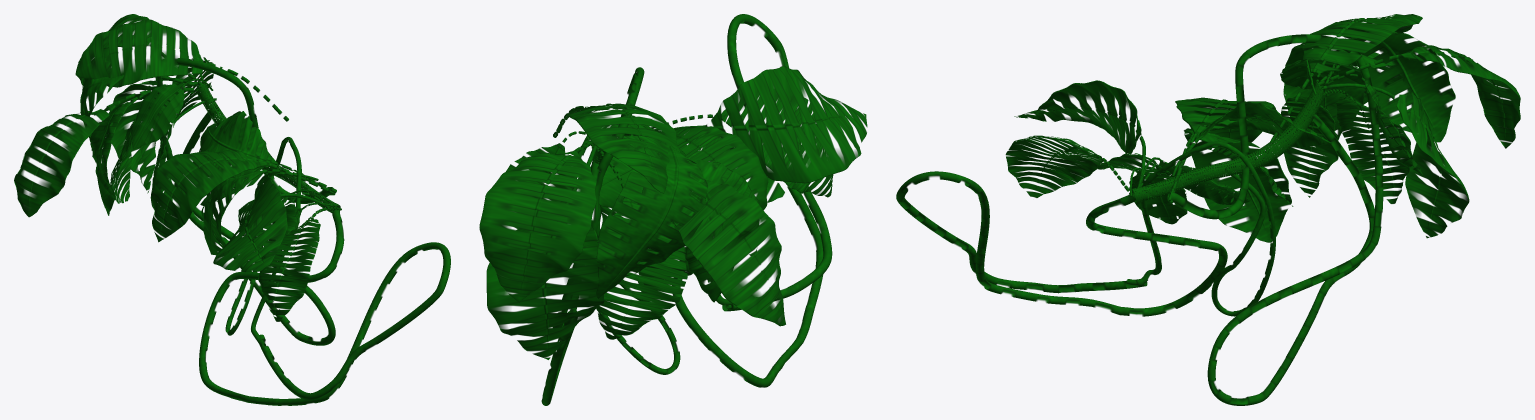
Rendered from dmtreeleaves3.glb.
3 views of the same model, side by side, from view 1: azimuth 30°, elevation 25°; view 2: azimuth 150°, elevation 25°; view 3: azimuth 270°, elevation 25° (orthographic). The views are drawn at different scales.
Visible parts, largest first — view 1: jump_rope_246.040, leaf_005_mesh.005, leaf_004_mesh.005, leaf_005_mesh.006, leaf_003_mesh.006, leaf_001_mesh.005, jump_rope_246.042, leaf_009_mesh.005, leaf_006_mesh.006, leaf_003_mesh.007, leaf_010_mesh.005, leaf_009_mesh.006 (+10 smaller); view 2: leaf_004_mesh.006, leaf_003_mesh.006, leaf_005_mesh.006, leaf_010_mesh.006, leaf_003_mesh.007, jump_rope_246.040, leaf_005_mesh.005, leaf_001_mesh.006, leaf_004_mesh.005, leaf_009_mesh.006, jump_rope_246.042, leaf_001_mesh.005 (+5 smaller); view 3: jump_rope_246.042, jump_rope_246.040, leaf_010_mesh.006, leaf_003_mesh.007, leaf_003_mesh.006, leaf_001_mesh.005, leaf_010_mesh.005, leaf_005_mesh.005, leaf_004_mesh.006, leaf_001_mesh.006, human_liver_1128_aorta.007, jump_rope_246.041 (+10 smaller).
Part boxes in pixels (x1,y1,x2,y2): jump_rope_246.040: [199, 209, 450, 405]; leaf_005_mesh.005: [75, 19, 288, 121]; leaf_004_mesh.005: [151, 150, 336, 242]; leaf_005_mesh.006: [14, 88, 202, 217]; leaf_003_mesh.006: [213, 173, 332, 272]; leaf_001_mesh.005: [258, 207, 340, 321]; jump_rope_246.042: [155, 58, 335, 345]; leaf_009_mesh.005: [193, 111, 335, 195]; leaf_006_mesh.006: [132, 78, 213, 148]; leaf_003_mesh.007: [108, 77, 204, 193]; leaf_010_mesh.005: [201, 163, 334, 255]; leaf_009_mesh.006: [89, 82, 198, 215]; leaf_004_mesh.006: [479, 140, 596, 302]; leaf_003_mesh.006: [673, 66, 867, 183]; leaf_005_mesh.006: [673, 180, 785, 326]; leaf_010_mesh.006: [596, 133, 707, 298]; leaf_003_mesh.007: [486, 145, 604, 359]; jump_rope_246.040: [672, 14, 832, 387]; leaf_005_mesh.005: [553, 103, 679, 193]; leaf_001_mesh.006: [585, 138, 687, 339]; leaf_004_mesh.005: [656, 126, 768, 255]; leaf_009_mesh.006: [625, 146, 760, 302]; jump_rope_246.042: [541, 67, 644, 405]; leaf_001_mesh.005: [653, 91, 833, 197]; jump_rope_246.042: [1167, 34, 1383, 405]; jump_rope_246.040: [896, 171, 1227, 316]; leaf_010_mesh.006: [1315, 28, 1455, 142]; leaf_003_mesh.007: [1320, 83, 1469, 238]; leaf_003_mesh.006: [1014, 80, 1145, 197]; leaf_001_mesh.005: [1005, 135, 1131, 197]; leaf_010_mesh.005: [1169, 128, 1291, 242]; leaf_005_mesh.005: [1265, 14, 1422, 153]; leaf_004_mesh.006: [1318, 45, 1520, 148]; leaf_001_mesh.006: [1322, 89, 1412, 203]; human_liver_1128_aorta.007: [1131, 81, 1325, 202]; jump_rope_246.041: [1126, 141, 1275, 316].
Bounding box in the file's own units: 0.7321 × 0.8432 × 1.45.
1 material, 1 textured.
